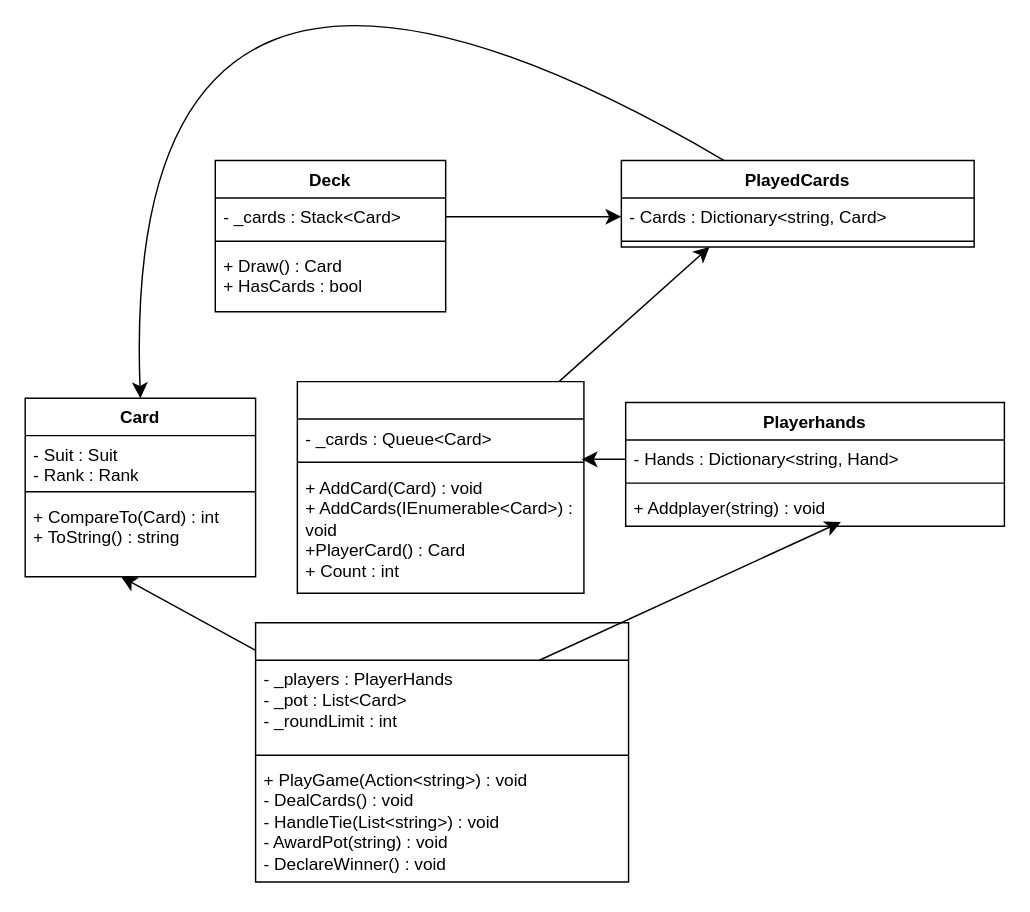
This 1030x912 diagram has some shape labels left out. Here are the shapes that lost their labels. From the top down, the box of each, then its label:
(296, 380, 584, 593): Hand
(254, 621, 629, 882): WarEngine
